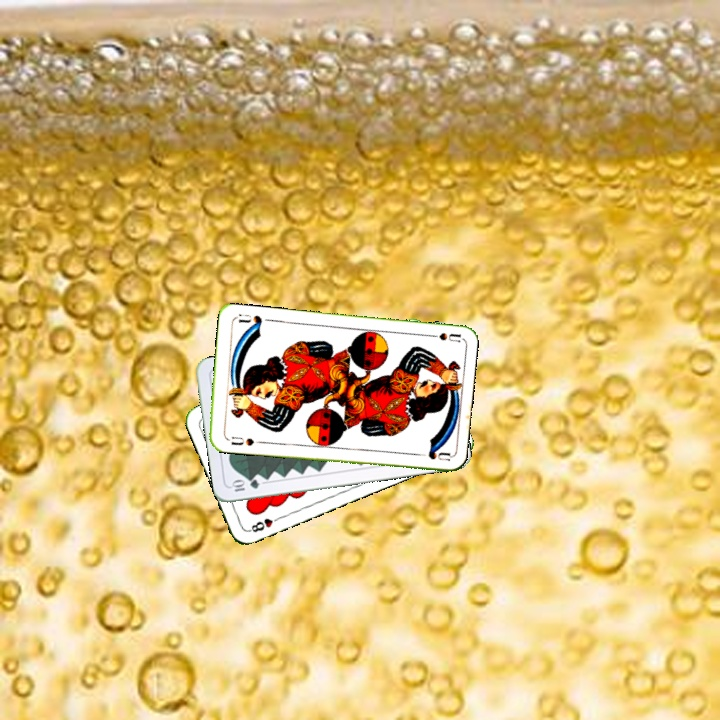G10: (228, 476, 262, 494)
H8: (245, 512, 284, 535)
SU: (222, 432, 263, 448), (421, 329, 462, 344)
